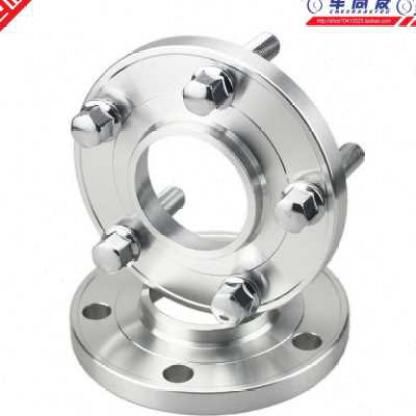FOD: (70, 36, 356, 321), (62, 227, 356, 415)
